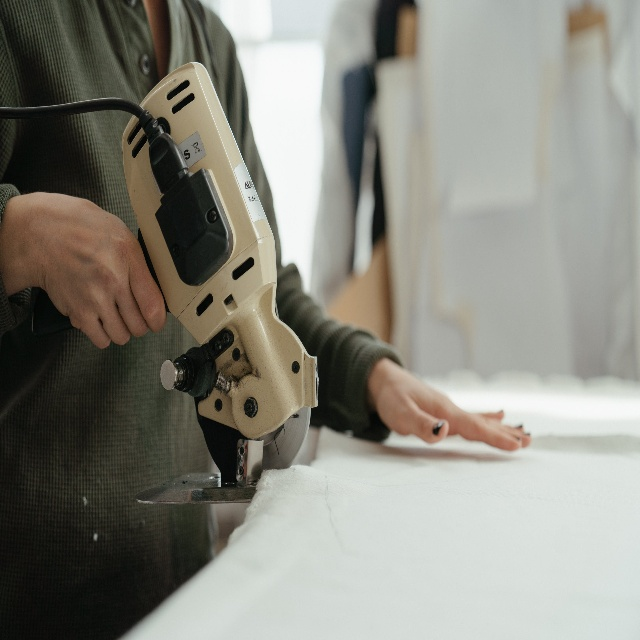Sin_guantes: (38, 188, 167, 349), (371, 361, 531, 452)
